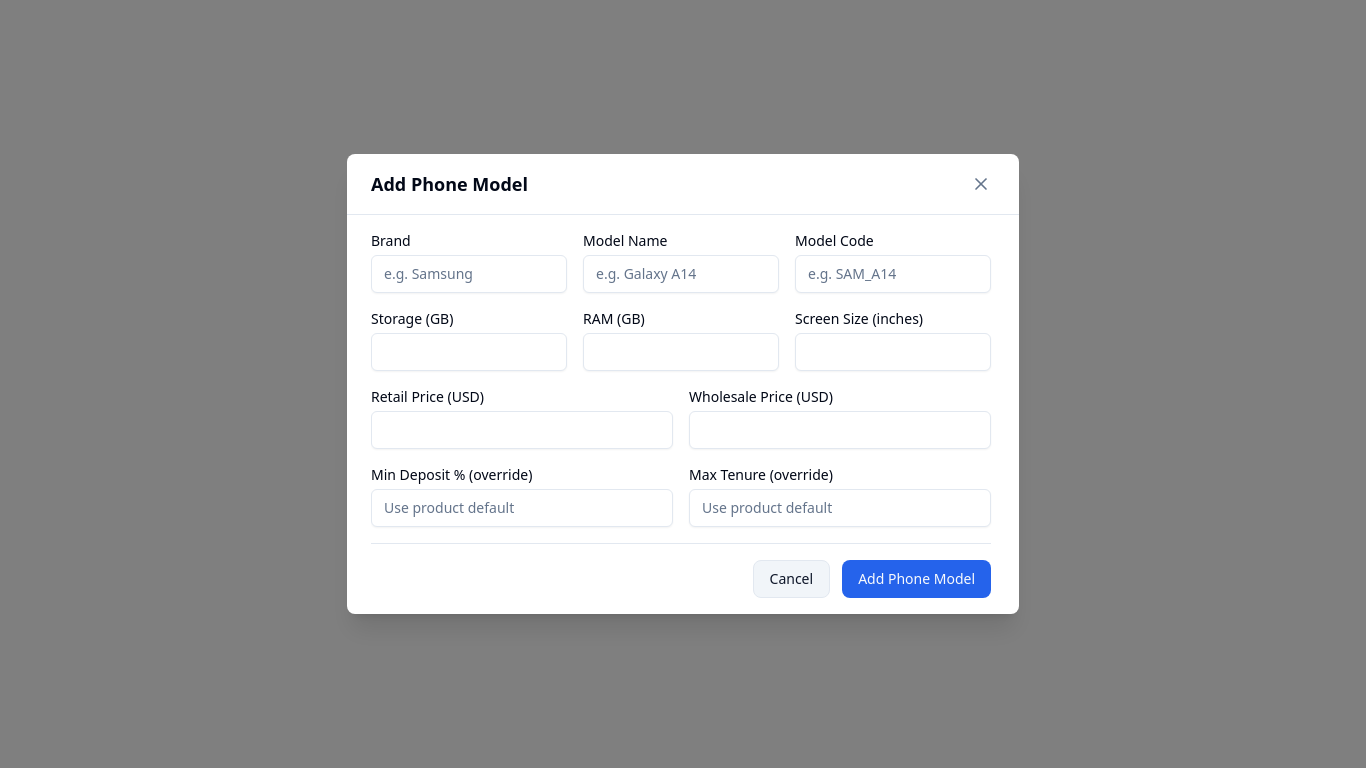
Scenario: DeviceModelForm › validates wholesale must be less than retail
Type "Samsung" into the field labelled "Brand" at point(469, 274), box top-left (371, 255), bottom-right (567, 293)
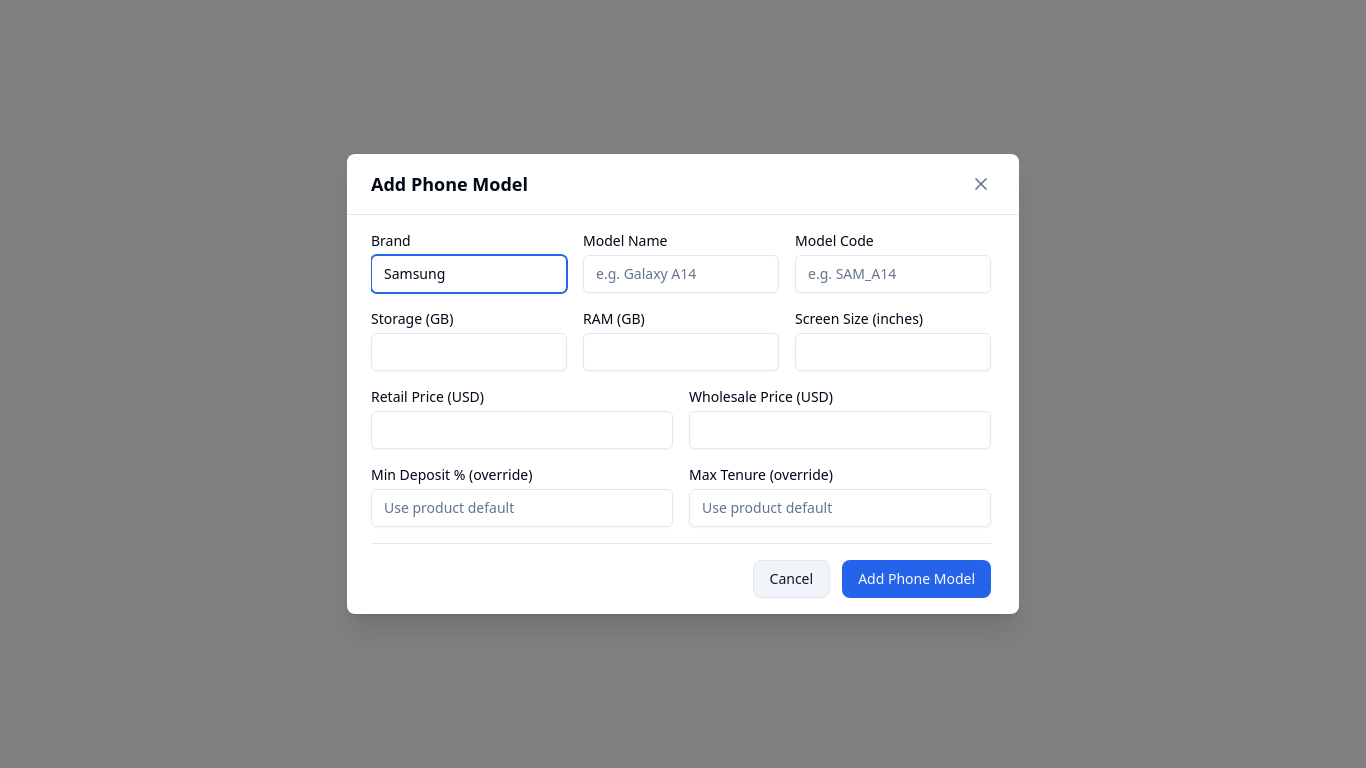
Type "Galaxy A14" into the field labelled "Model Name" at point(681, 274), box top-left (583, 255), bottom-right (779, 293)
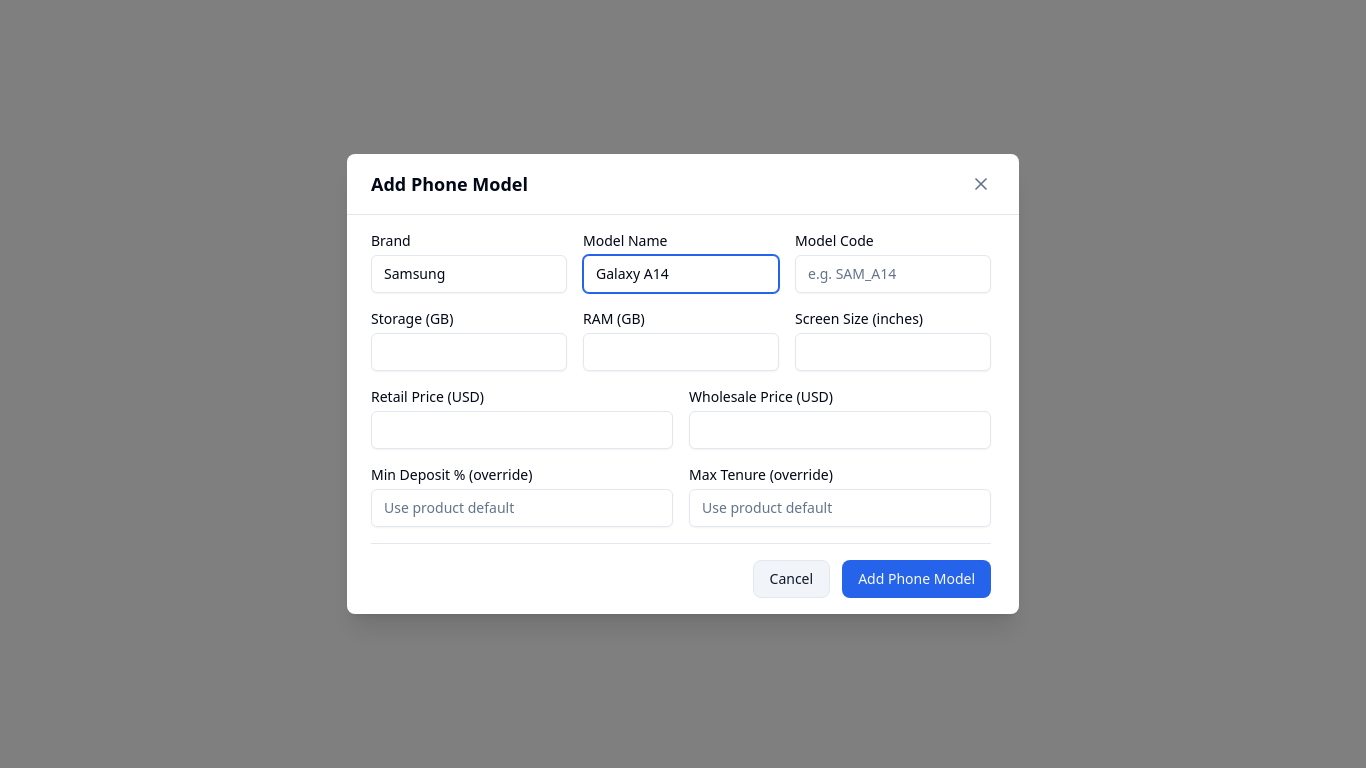
Type "SAM_A14" into the field labelled "Model Code" at point(893, 274), box top-left (795, 255), bottom-right (991, 293)
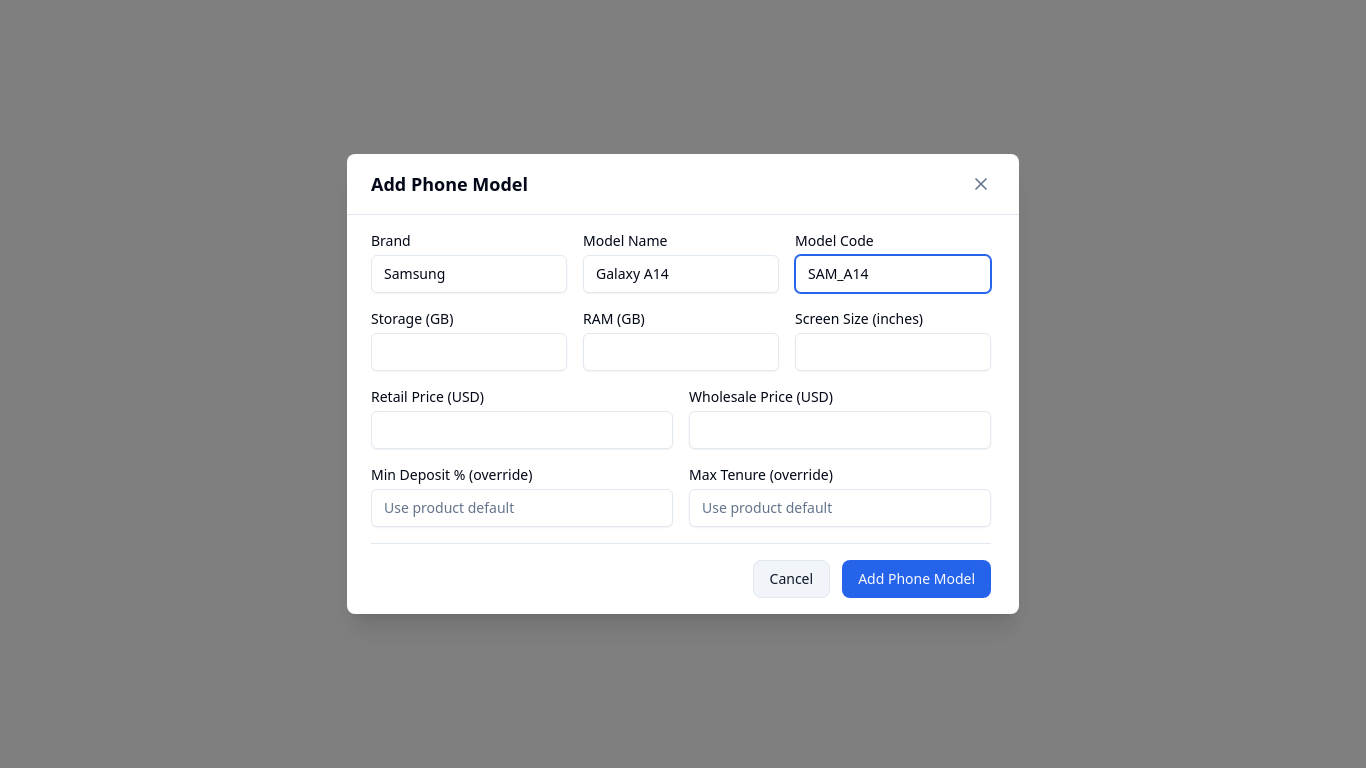
Type "100" into the number field labelled "Retail Price (USD)" at point(522, 430), box top-left (371, 411), bottom-right (673, 449)
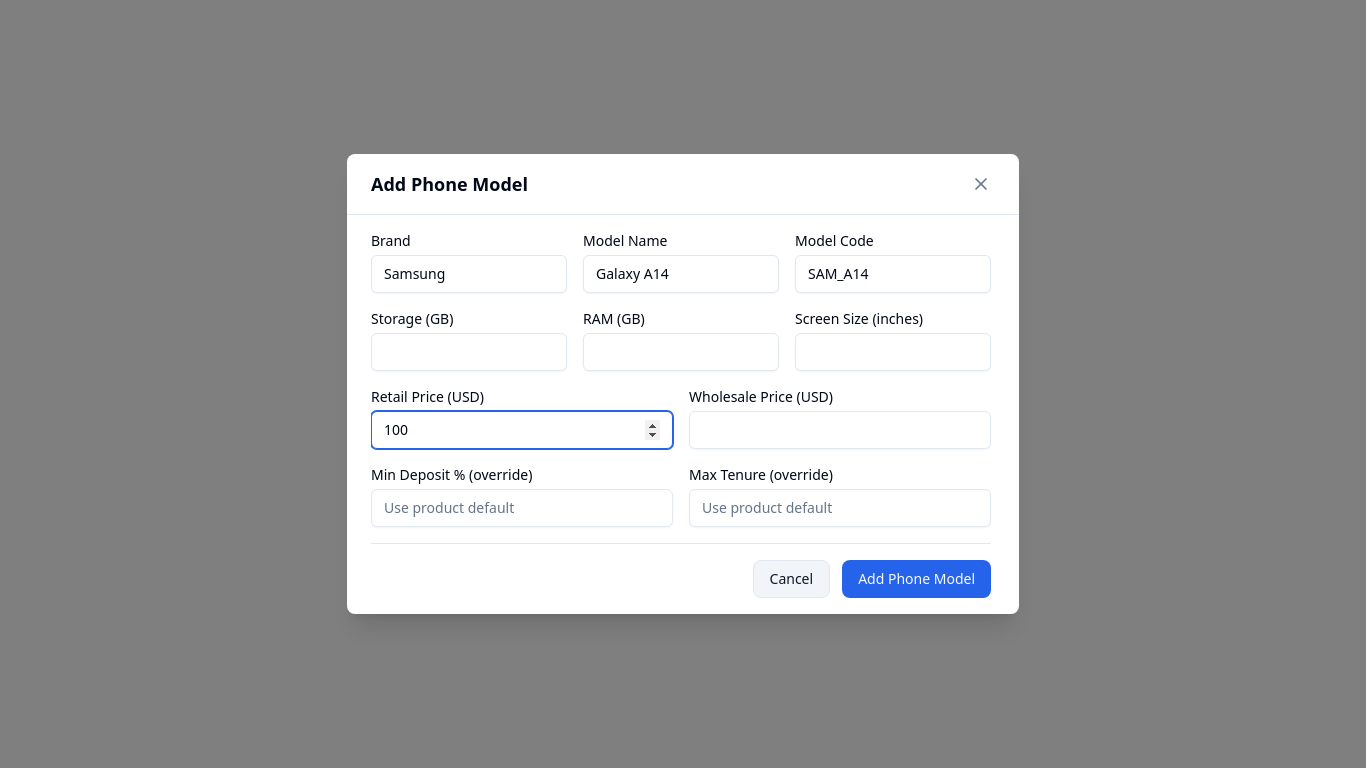
Type "150" into the number field labelled "Wholesale Price (USD)" at point(840, 430), box top-left (689, 411), bottom-right (991, 449)
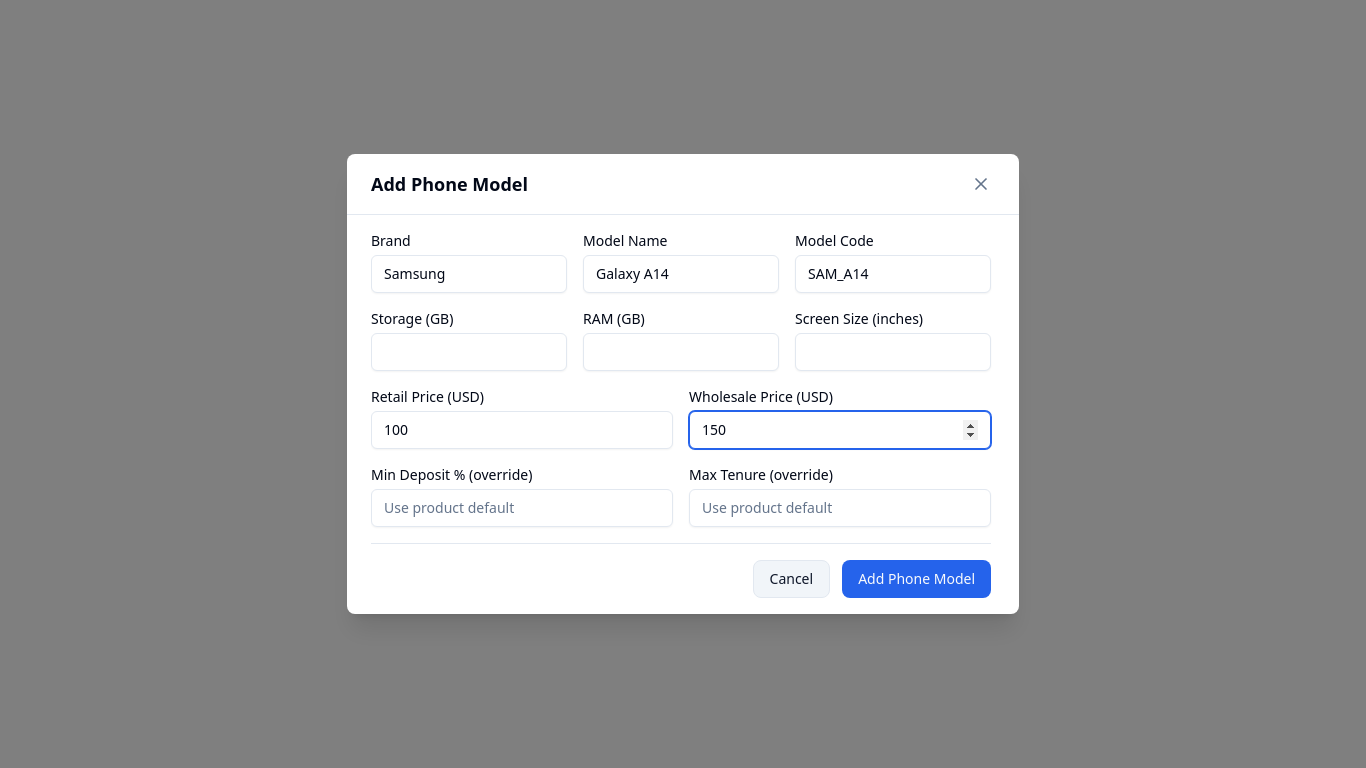
Click the button "Add Phone Model" at point(917, 579), box top-left (842, 560), bottom-right (991, 598)
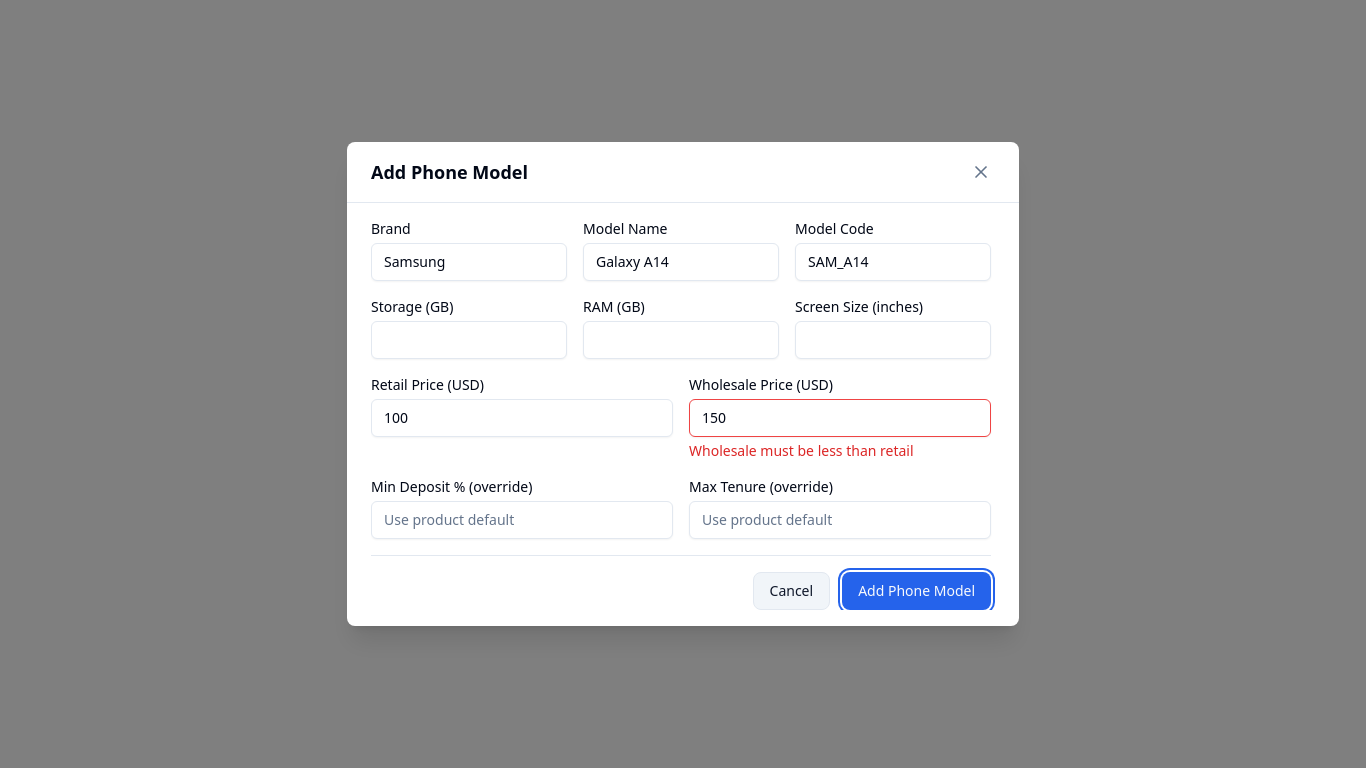
Expected: the text "Wholesale must be less than retail" is shown, top-left (689, 441), bottom-right (914, 460)
